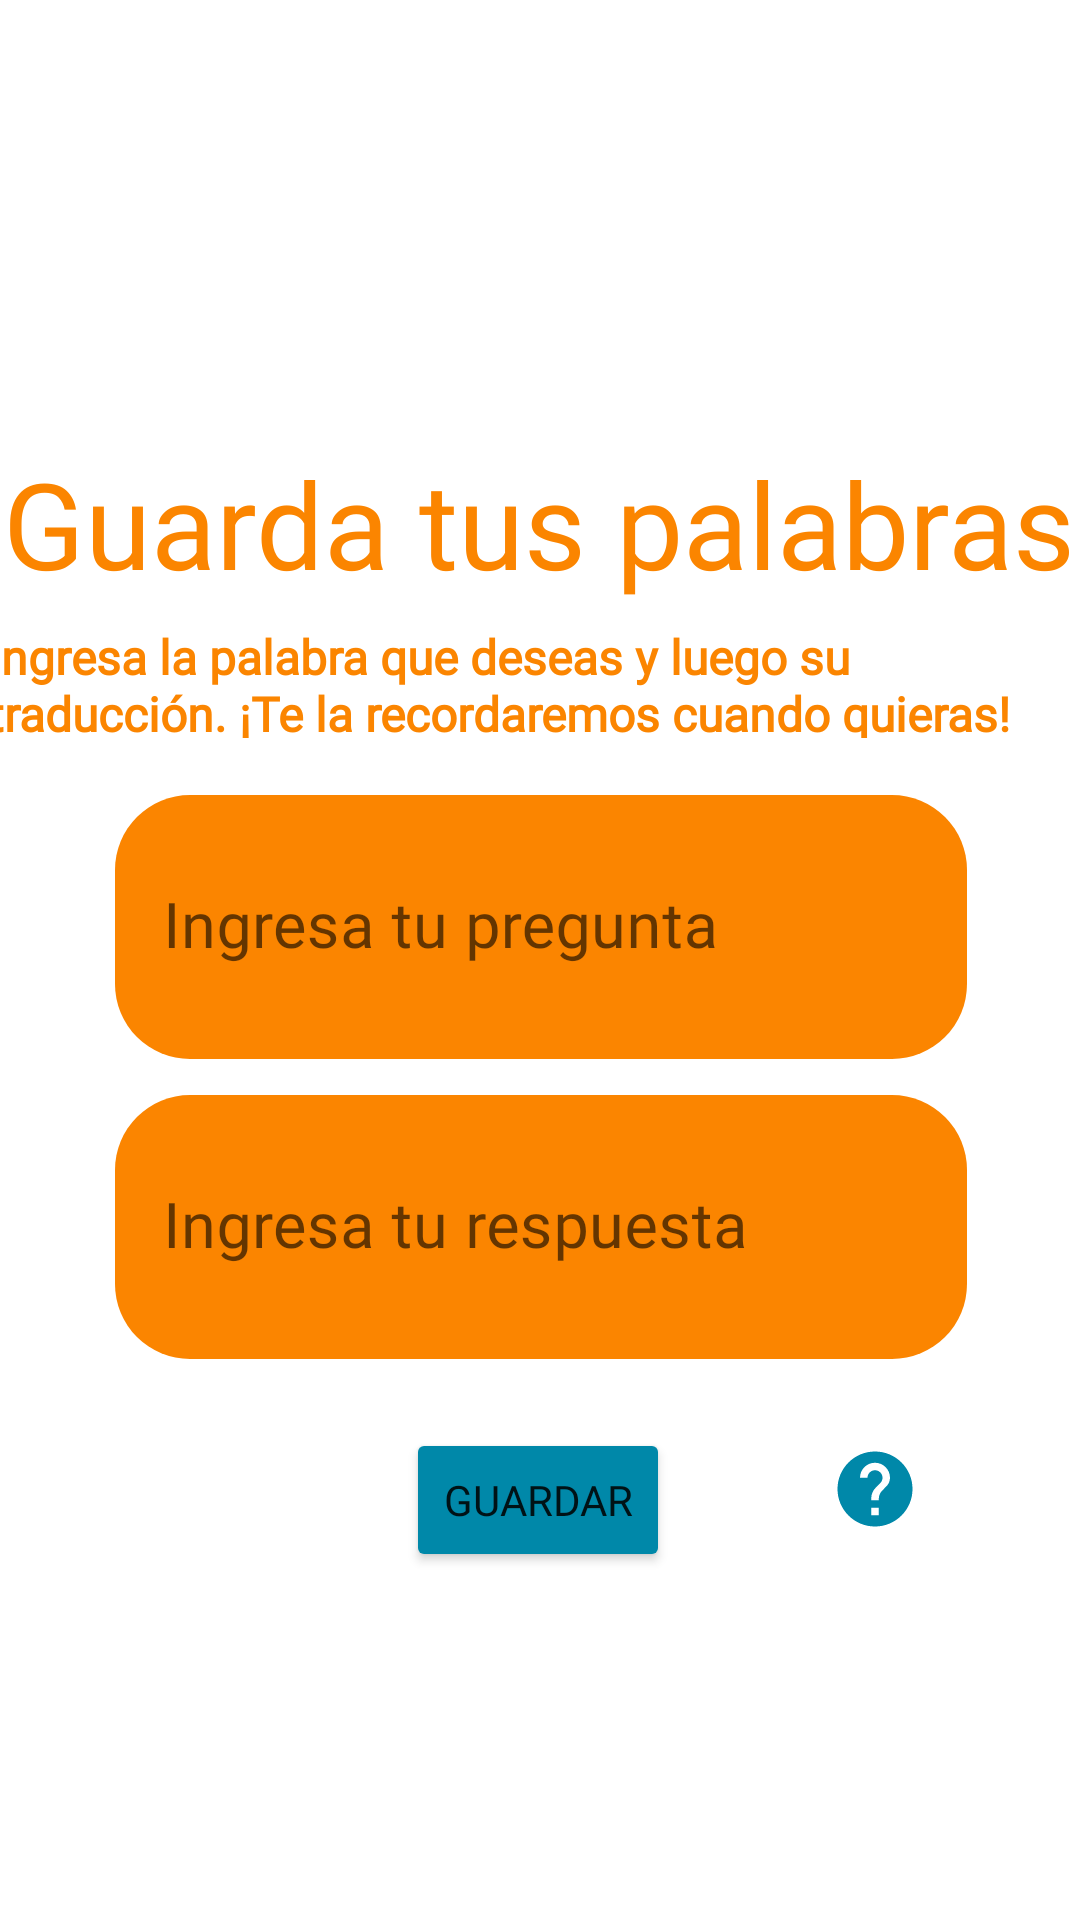

Icon click points for this 1080 x 1920 phone screenshot, format point (x, y):
help: point (875, 1489)
